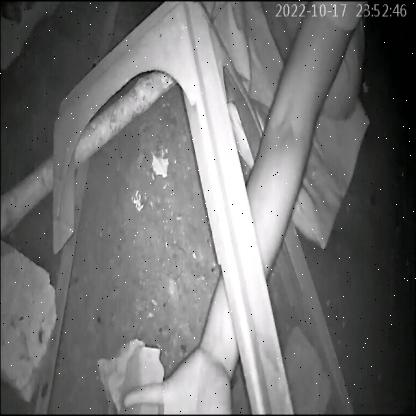hand: (116, 182, 284, 416)
